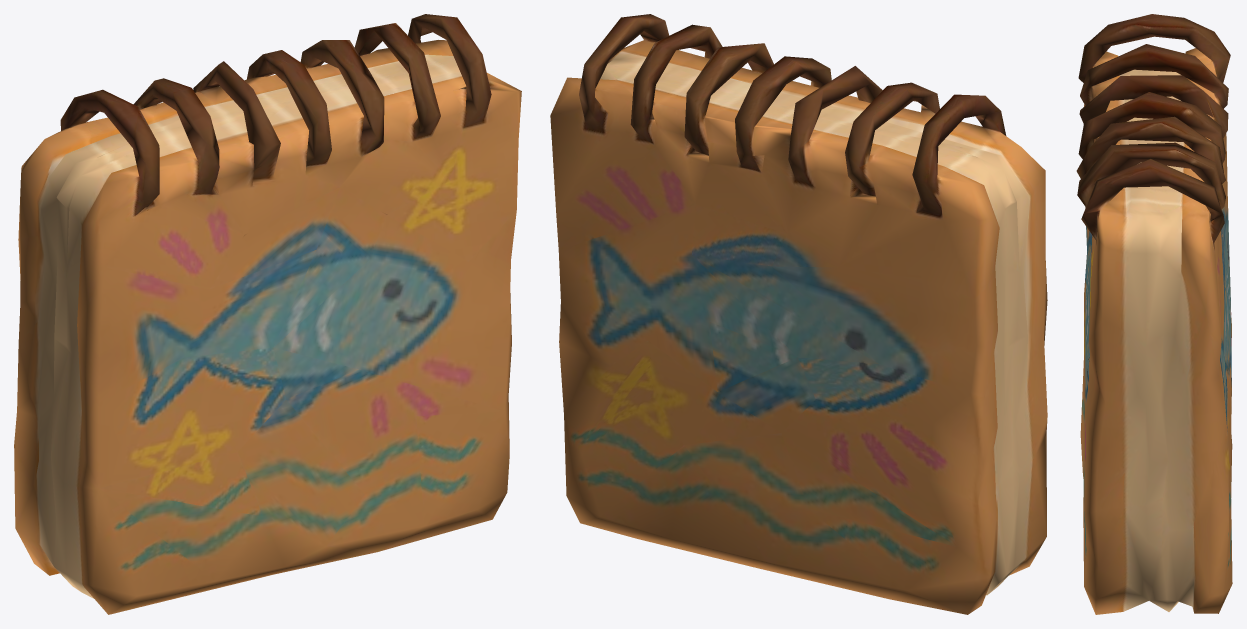
File: sketchbook.glb
3 views of the same model, side by side, from view 1: azimuth 30°, elevation 25°; view 2: azimuth 150°, elevation 25°; view 3: azimuth 270°, elevation 25° (orthographic). The views are drawn at different scales.
Parts seen in each view (by area): view 1: tripo_node_3bb25577-4861-4c4e-81bb-e8ec2d0595ea; view 2: tripo_node_3bb25577-4861-4c4e-81bb-e8ec2d0595ea; view 3: tripo_node_3bb25577-4861-4c4e-81bb-e8ec2d0595ea.
Boxes of the visible parts, <box> form: tripo_node_3bb25577-4861-4c4e-81bb-e8ec2d0595ea: <box>14,14,521,614</box>; tripo_node_3bb25577-4861-4c4e-81bb-e8ec2d0595ea: <box>550,14,1047,614</box>; tripo_node_3bb25577-4861-4c4e-81bb-e8ec2d0595ea: <box>1076,14,1232,614</box>.
Bounding box in the file's own units: 0.2483 × 0.26 × 0.0816.
1 material, 1 textured.
